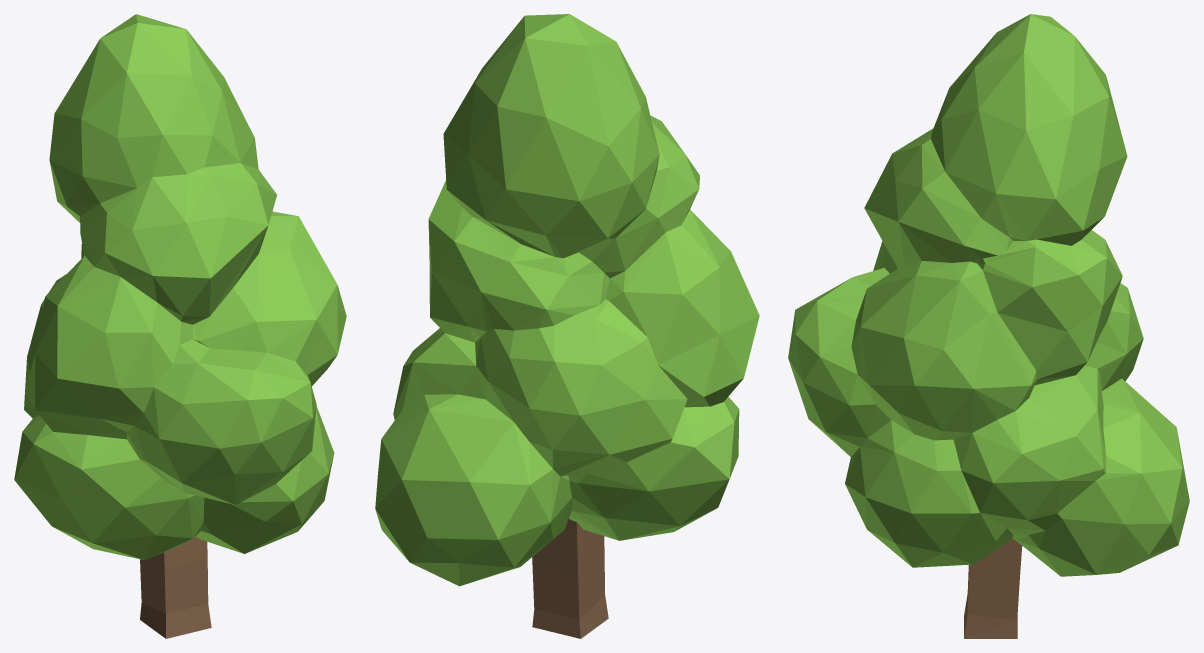
The model's file is tree07.fbx.
3 renders of one model, left to right at view 1: azimuth 30°, elevation 25°; view 2: azimuth 150°, elevation 25°; view 3: azimuth 270°, elevation 25°, orthographic. The views are drawn at different scales.
Parts seen in each view (by area): view 1: tree07_LOD0; view 2: tree07_LOD0; view 3: tree07_LOD0.
Boxes of the visible parts, box(x1,y1,x2,y2) form: tree07_LOD0: box(14, 14, 346, 638); tree07_LOD0: box(375, 14, 759, 638); tree07_LOD0: box(788, 14, 1189, 638).
Size of what is drawn, in the model's own units: 303 by 581 by 350.
